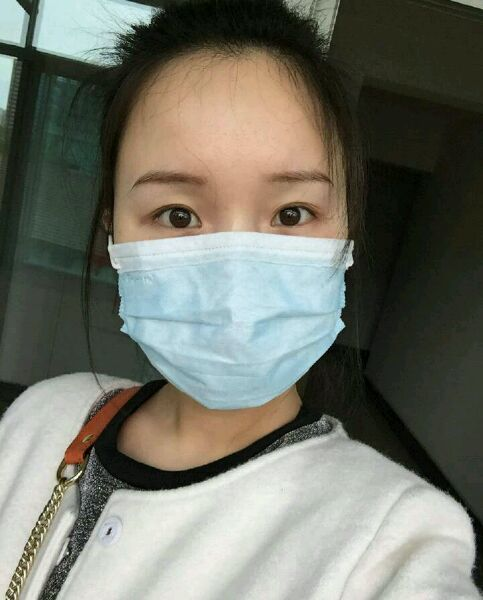face_mask: (117, 62, 344, 409)
